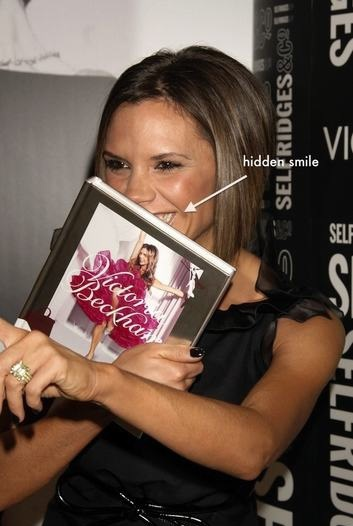face: (103, 99, 213, 247)
